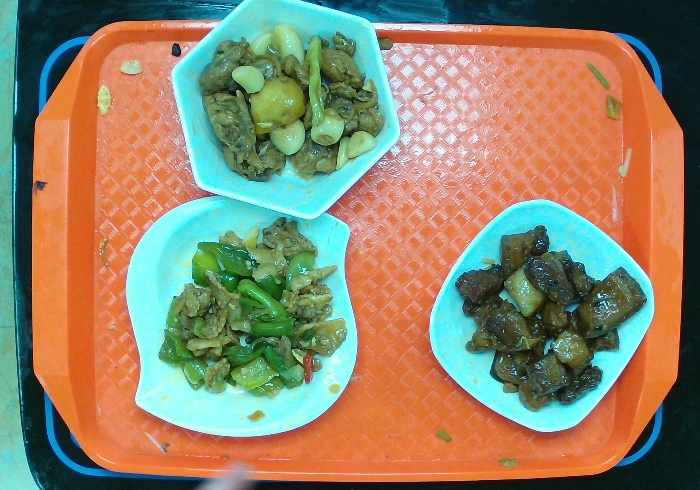RJxy-Liu_Jiao_Wan: (165, 1, 404, 222)
RJxy-Shuang_Jiao_Pan: (116, 192, 365, 439)
RJxy-Si_Fang_Wan: (424, 191, 657, 433)
